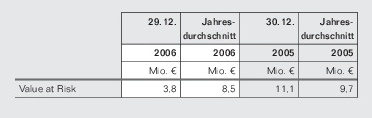table: (0, 0, 372, 118)
